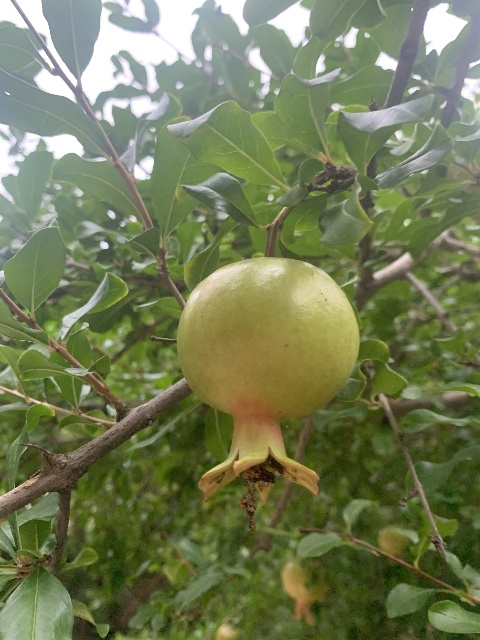mid-growth: (175, 256, 362, 512), (281, 558, 328, 625)
